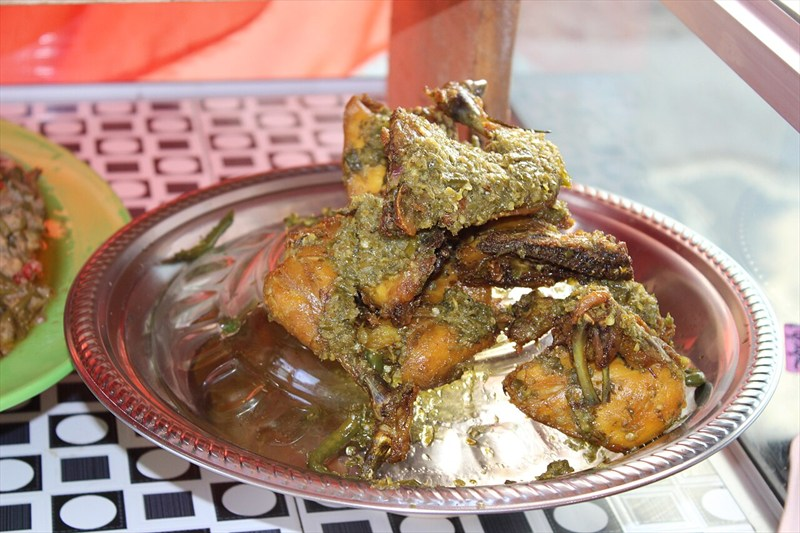Ayam Goreng: (27, 106, 693, 498)
